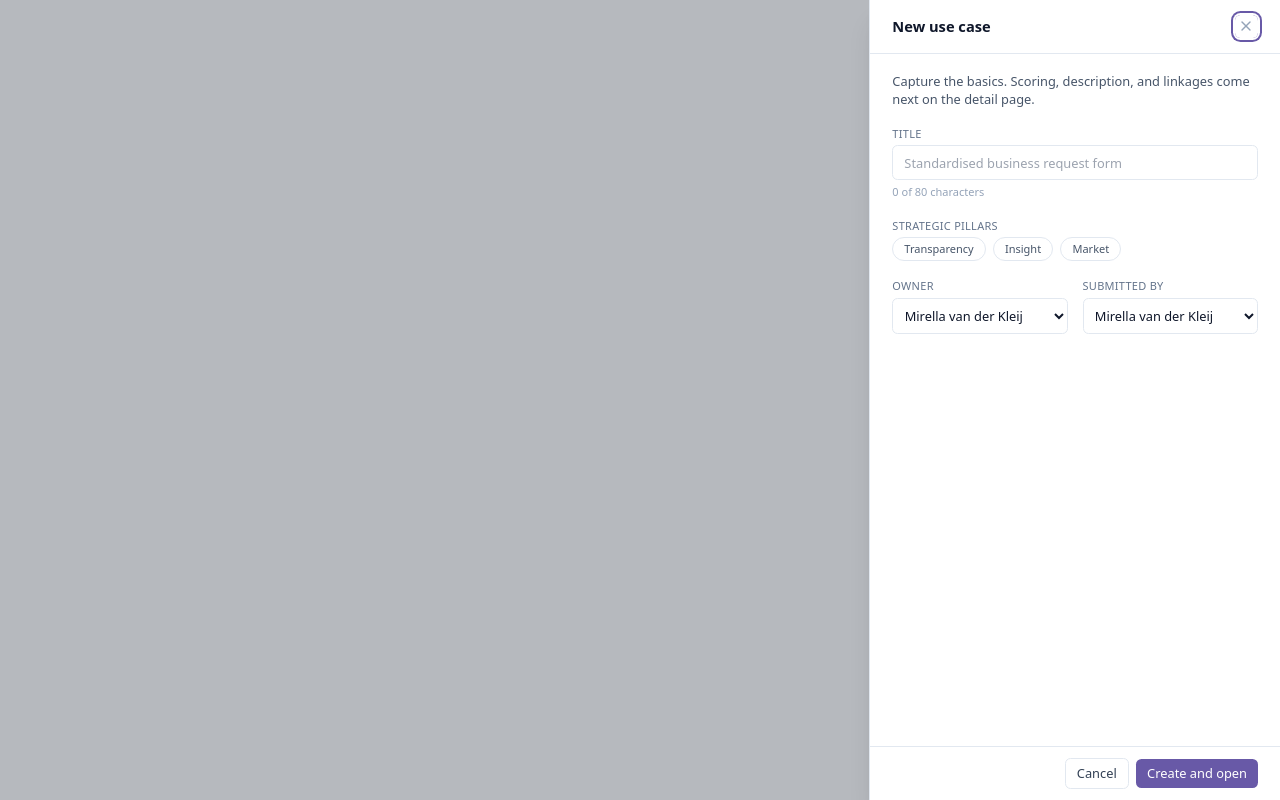
it: UseCaseForm › rejects submission without a pillar
Type "A new use case" into the field with placeholder "Standardised business request form" at (1075, 163), box x1=892 y1=145 x2=1258 y2=180
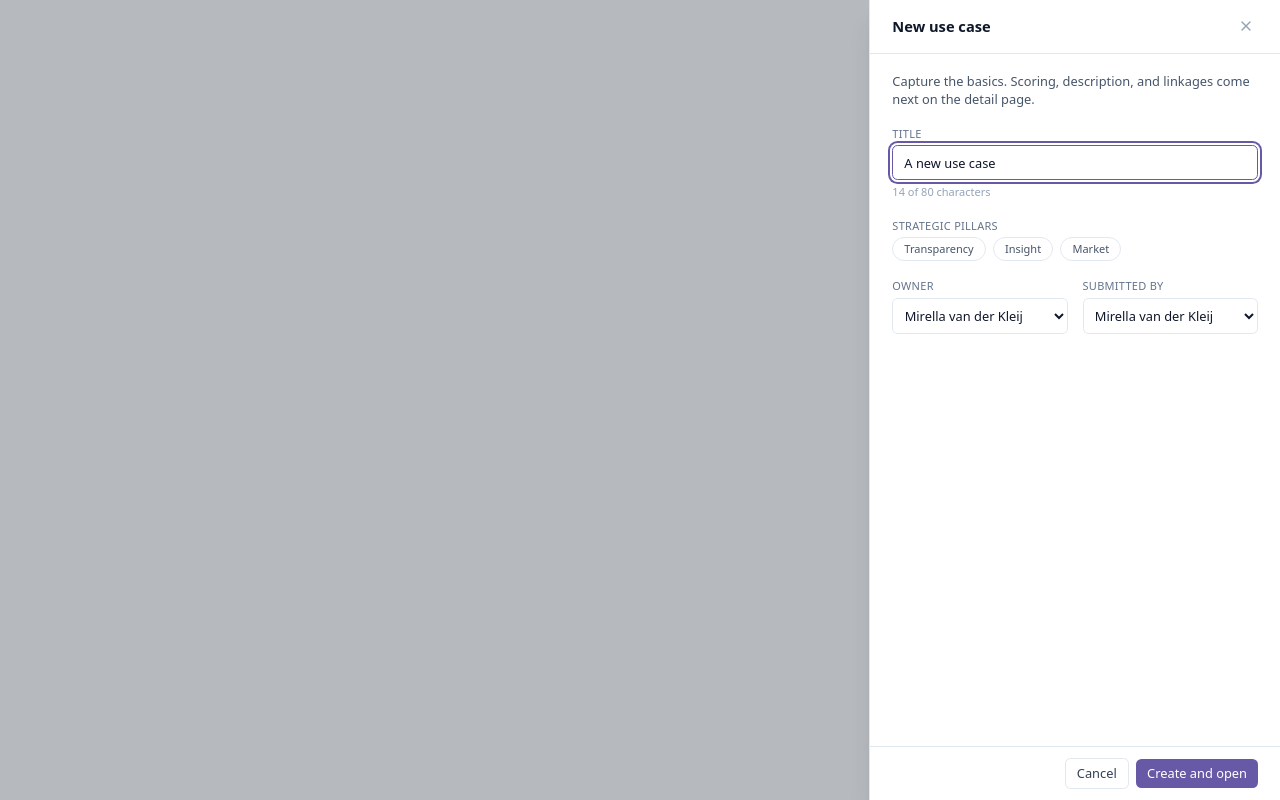
Click the button "Create and open" at (1197, 773), box x1=1136 y1=759 x2=1258 y2=788
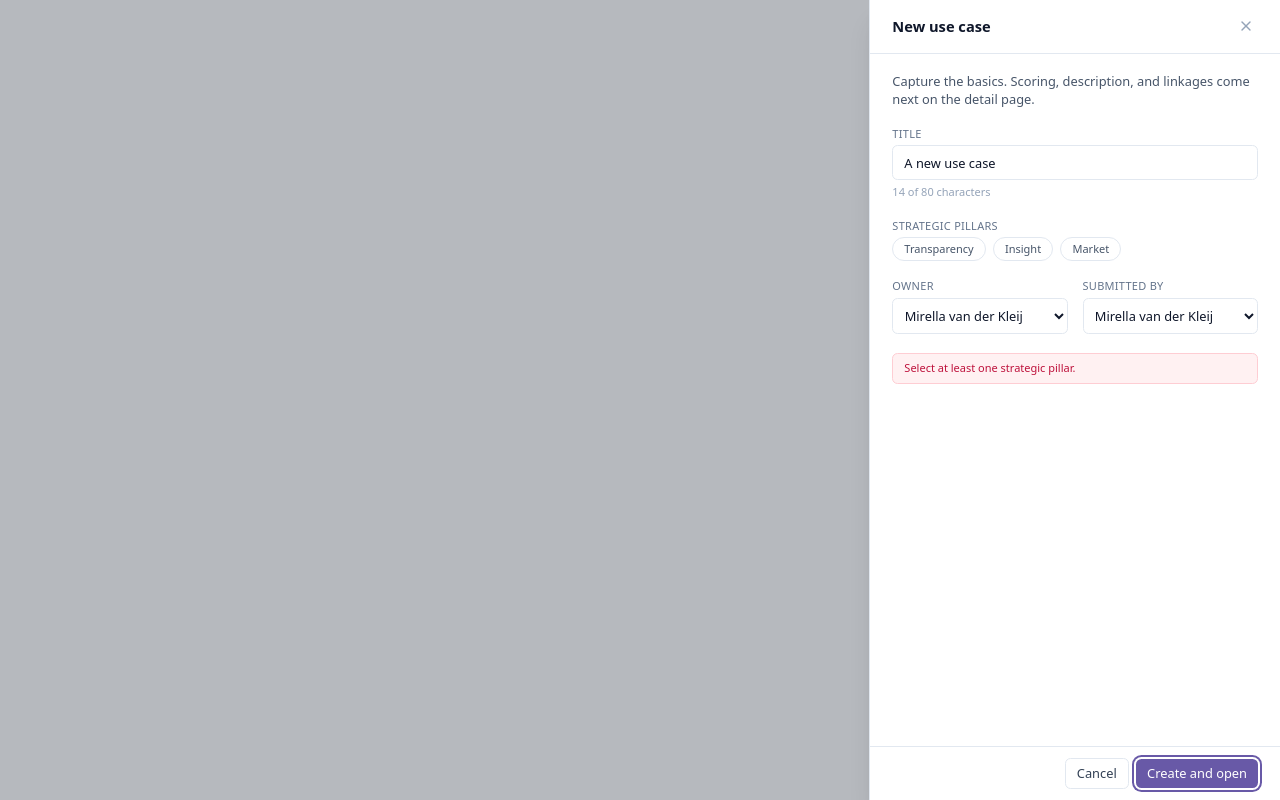
Now the text "Select at least one strategic pillar." is shown, box x1=892 y1=353 x2=1258 y2=384
